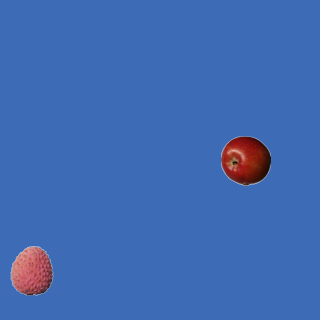Apple Braeburn: (220, 135, 270, 185)
Lychee: (6, 245, 56, 295)
